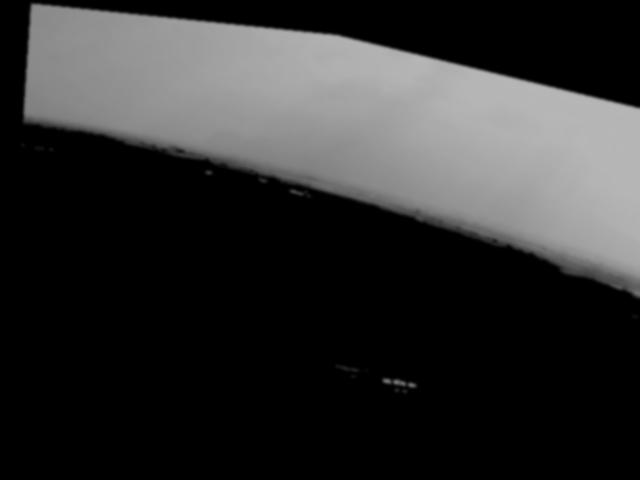hedef: (373, 353, 417, 396), (325, 345, 369, 382)
